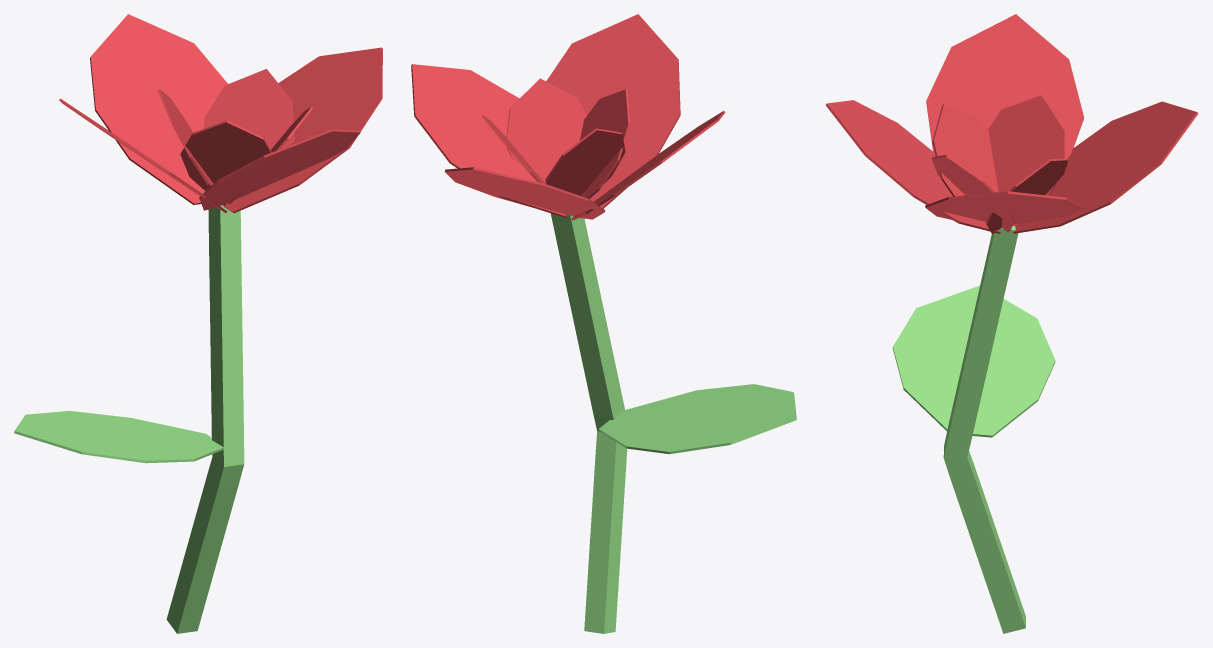
The model's file is Flower.fbx.
3 renders of one model, left to right at view 1: azimuth 30°, elevation 25°; view 2: azimuth 150°, elevation 25°; view 3: azimuth 270°, elevation 25°, orthographic. The views are drawn at different scales.
Parts seen in each view (by area): view 1: Flower; view 2: Flower; view 3: Flower.
Boxes of the visible parts, <box> form: Flower: <box>14,14,382,633</box>; Flower: <box>411,14,796,633</box>; Flower: <box>825,14,1198,633</box>.
Bounding box in the file's own units: 189 × 264 × 161.
